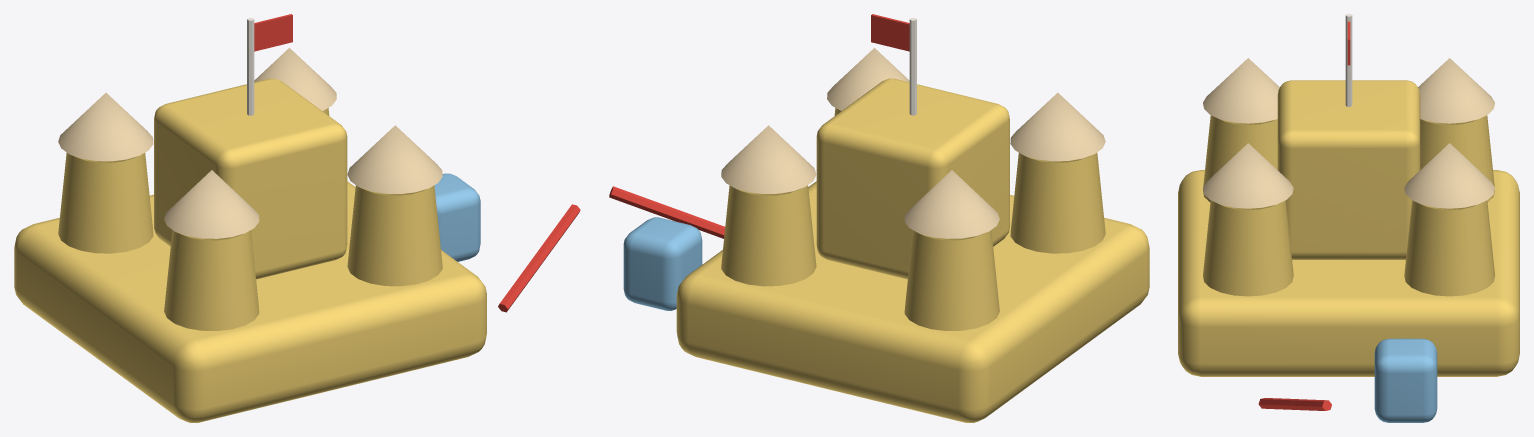
Rendered from sandcastle.glb.
3 renders of one model, left to right at view 1: azimuth 30°, elevation 25°; view 2: azimuth 150°, elevation 25°; view 3: azimuth 270°, elevation 25°, orthographic. The views are drawn at different scales.
Visible parts, largest first — view 1: sandcastle; view 2: sandcastle; view 3: sandcastle.
Part boxes in pixels (x1,y1,x2,y2): sandcastle: (14, 14, 580, 422); sandcastle: (609, 14, 1149, 422); sandcastle: (1178, 14, 1519, 422).
Size of the model in its own units: 1.82 by 1.15 by 1.2.
1 material, 1 textured.
